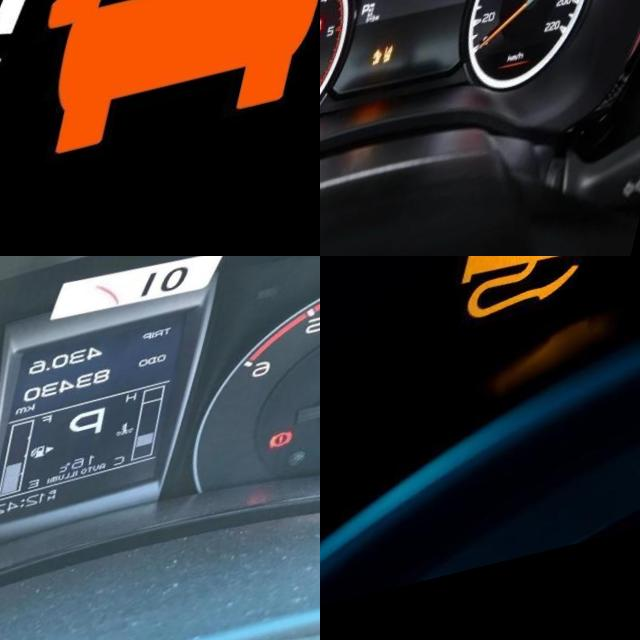Seat Belt: (326, 30, 336, 47)
